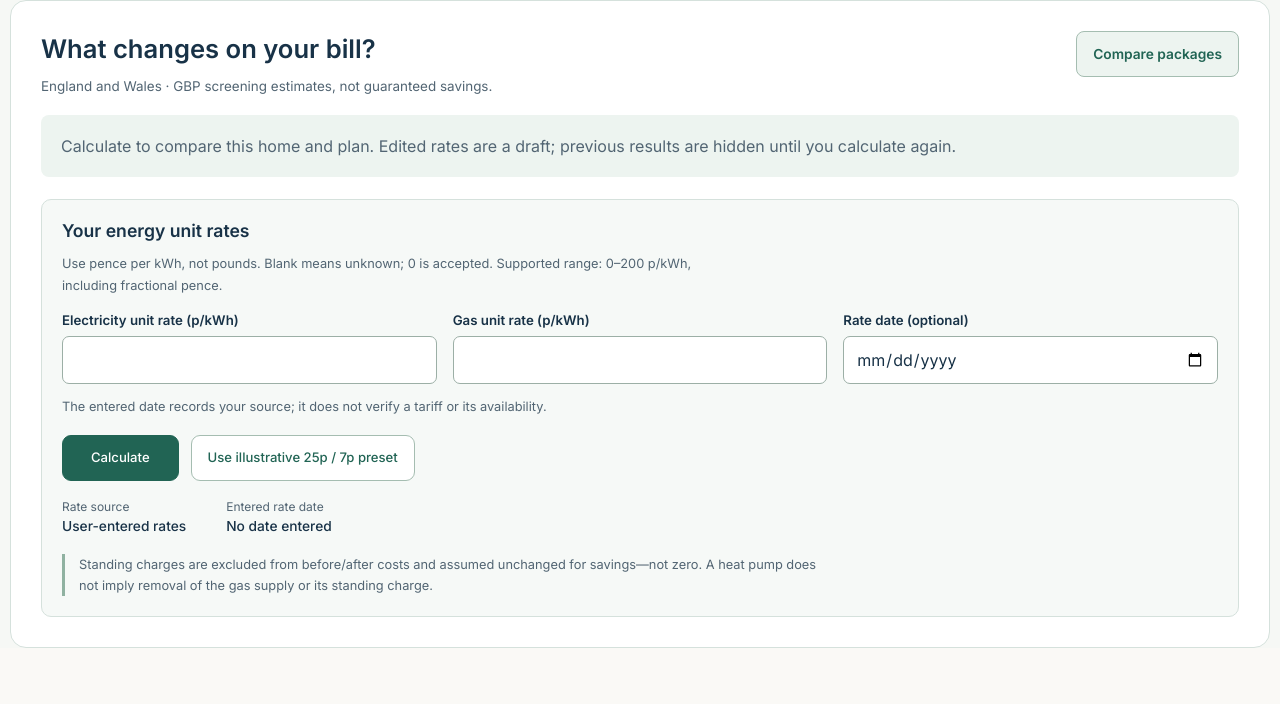
Test: Dashboard money and shared Costs & packages › labels higher bills and retains negative annual/monthly amounts with no payback
Click the button "Use illustrative 25p / 7p preset".
click(303, 458)  # box [191,435,415,481]
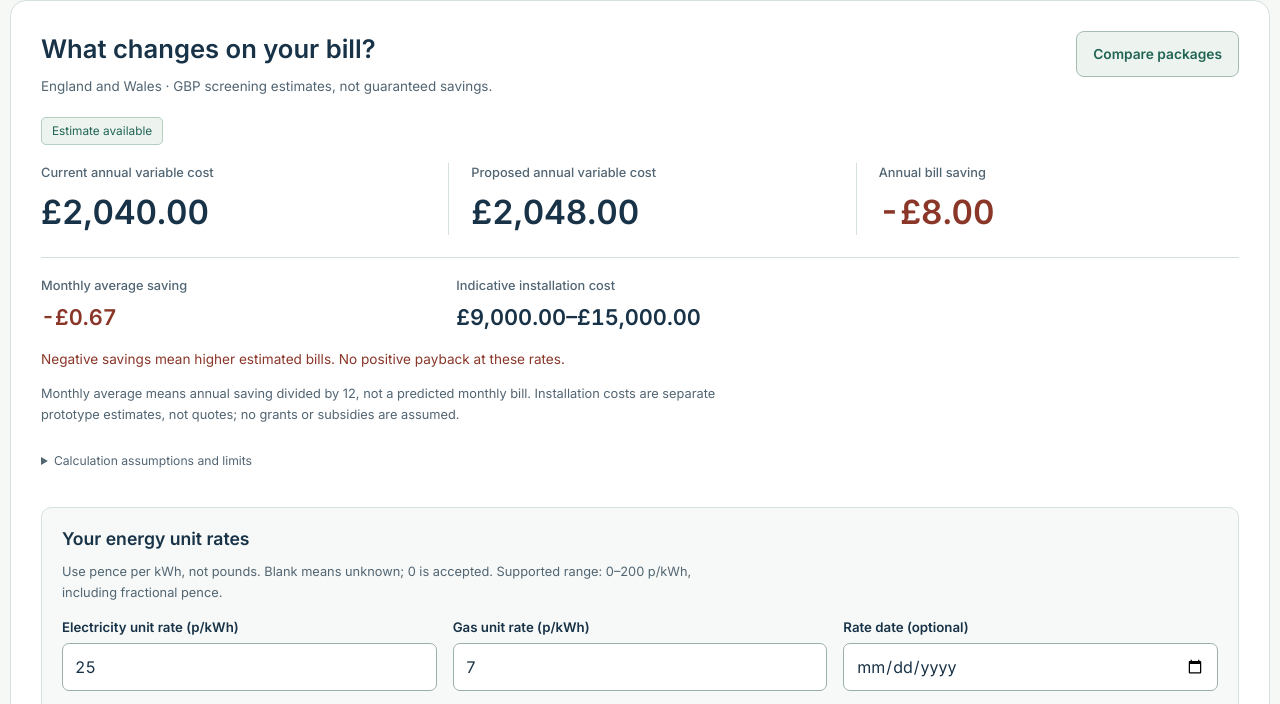
Now the text "-£8.00" is shown, box [879,192,995,232]
Now the text "-£0.67" is shown, box [41,304,117,330]
Now the text "higher estimated bills" is shown, box [41,351,565,367]
Click the button "Compare packages".
click(1158, 54)  # box [1076,31,1239,77]
(page scrolled)
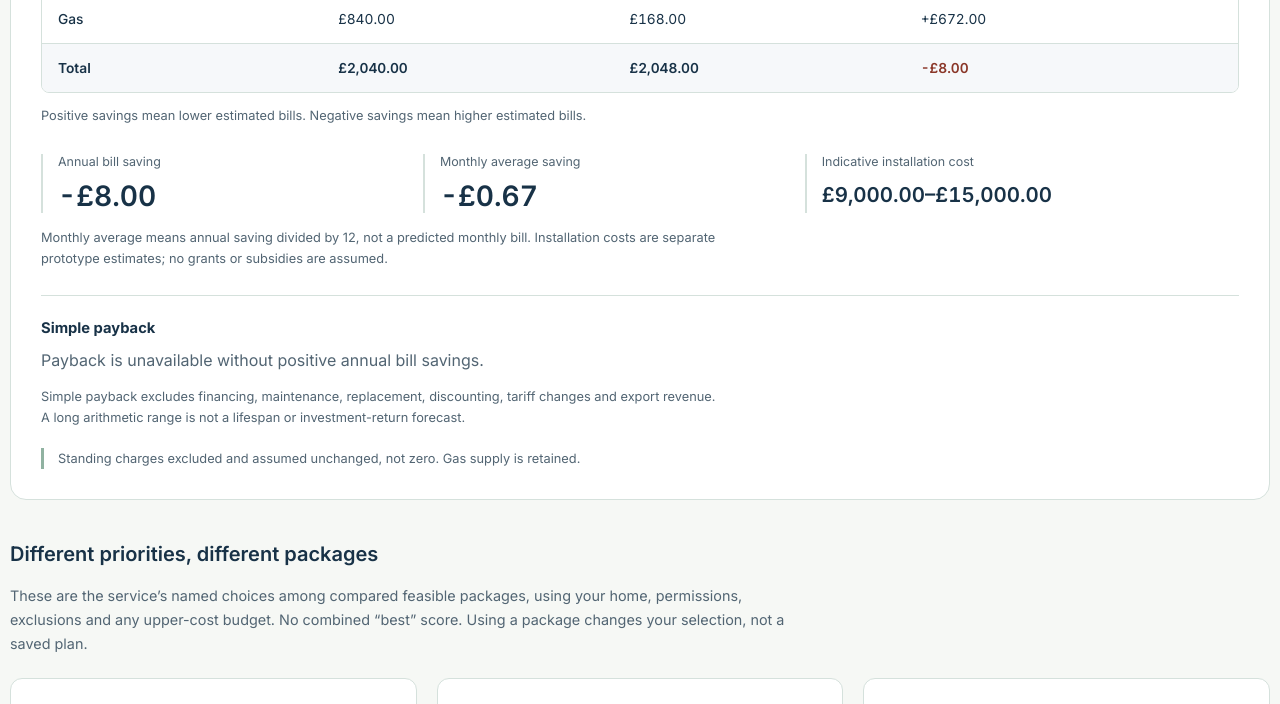
Now the text "Payback is unavailable without positive annual bill savings." is shown, box [41,350,484,370]
